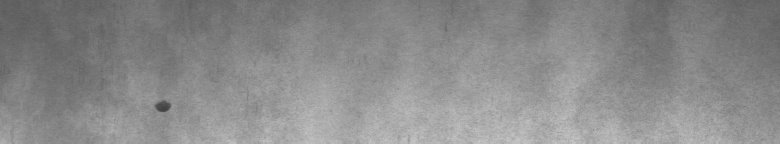fi: (149, 95, 176, 120)
